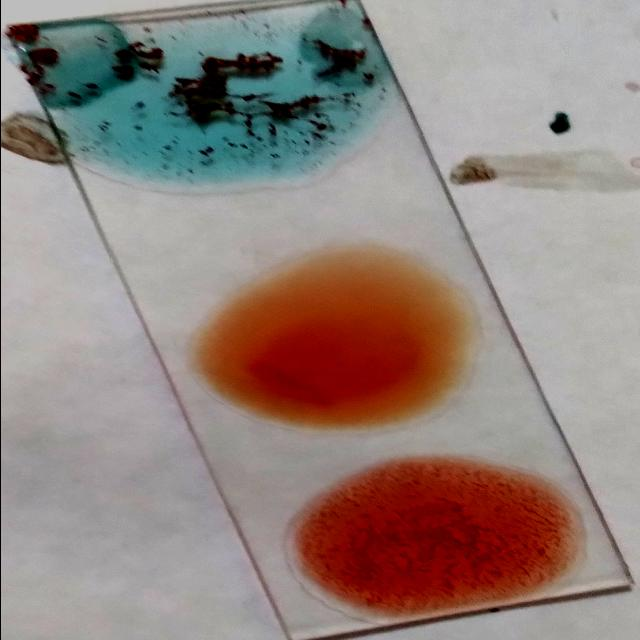A: (65, 14, 367, 179)
D: (283, 473, 559, 602)
